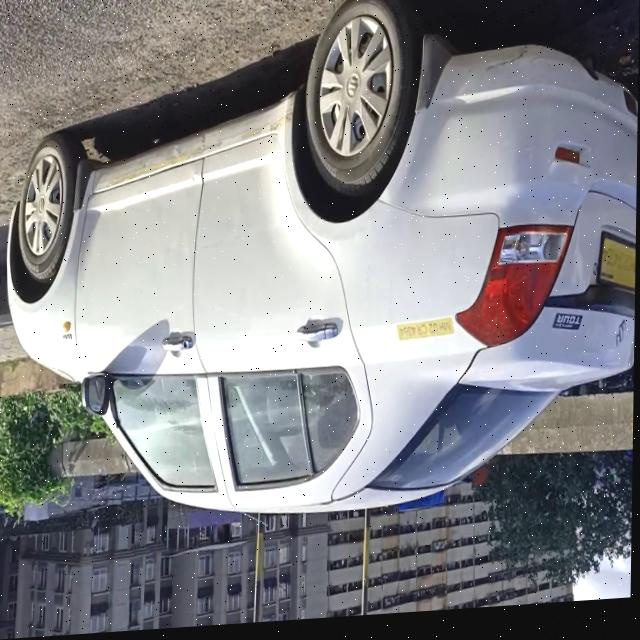plate: (596, 235, 637, 305), (396, 322, 457, 347)
